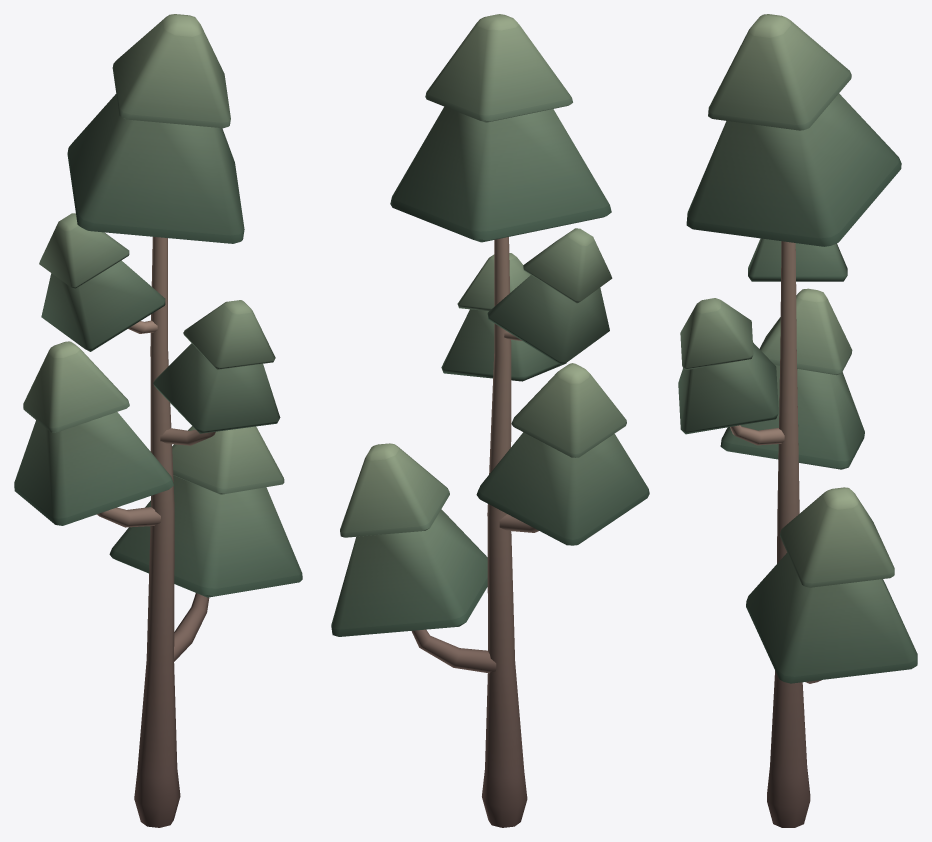
The model's file is Tree_4_C.glb.
The picture shows the model from 3 angles, left to right: view 1: azimuth 30°, elevation 25°; view 2: azimuth 150°, elevation 25°; view 3: azimuth 270°, elevation 25°; orthographic projection. The views are drawn at different scales.
Parts seen in each view (by area): view 1: Tree_4_C_Color1; view 2: Tree_4_C_Color1; view 3: Tree_4_C_Color1.
Part boxes in pixels (left/top/right/bottom): Tree_4_C_Color1: left=14, top=14, right=302, bottom=827; Tree_4_C_Color1: left=331, top=14, right=649, bottom=827; Tree_4_C_Color1: left=678, top=14, right=917, bottom=827.
Bounding box in the file's own units: 3.74 × 10.77 × 2.87.
1 material, 1 textured.
